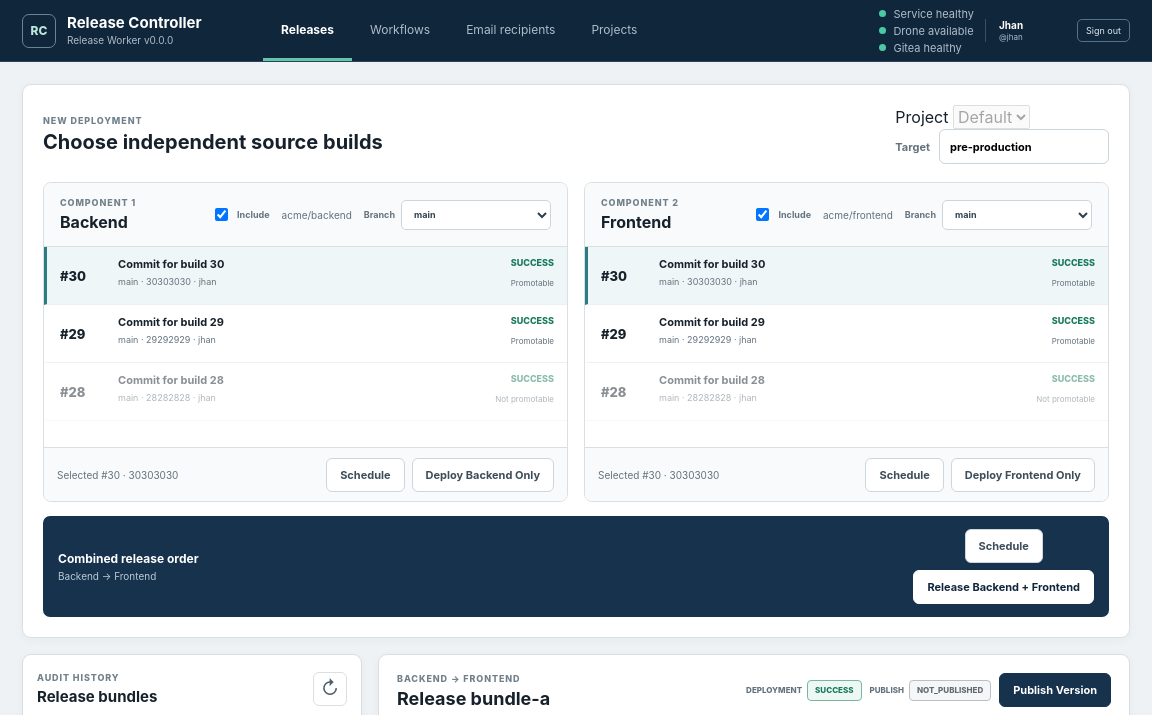
Test case: 專案設定 › 搜尋失敗仍保留手動輸入並可重試
This screenshot has width=1152, height=715.
Expected: the button with class "build-row" below "acme/frontend" is shown, [585,247,1108,305]
Click the link "Projects" at (614, 29), box [591,22,638,36]
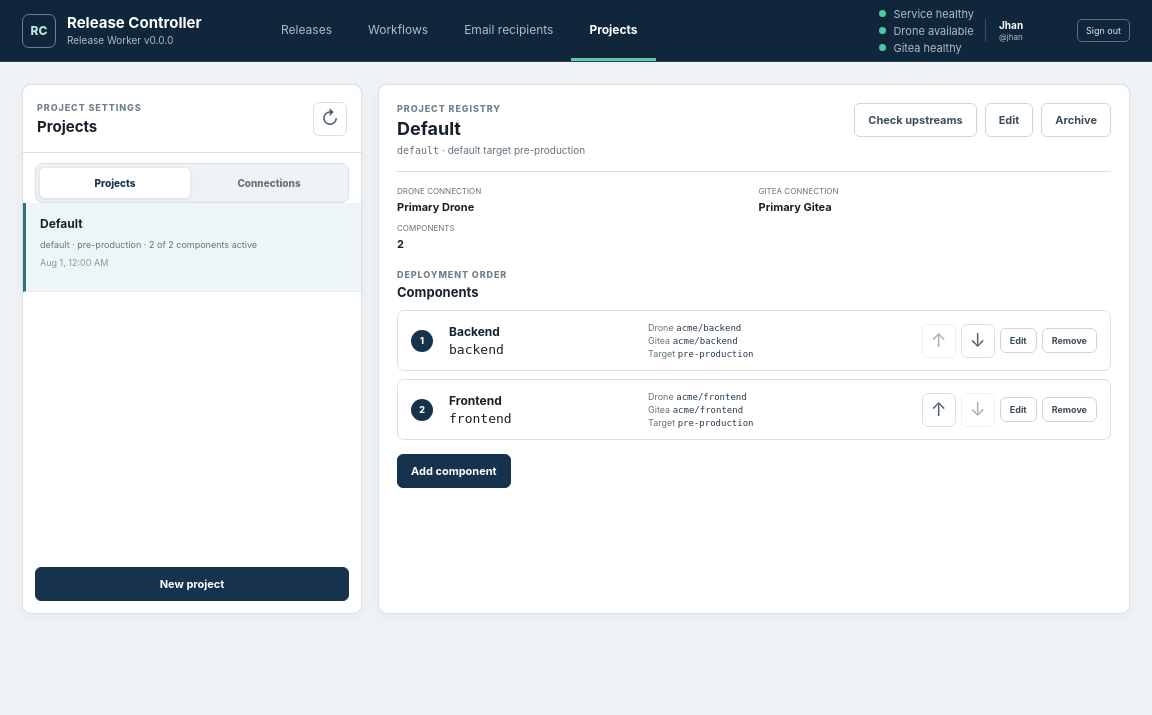
Expected: the list with class "component-table" is shown, [397,310,1111,440]
Click the button with id "new-project" at (192, 584), box [35,567,349,601]
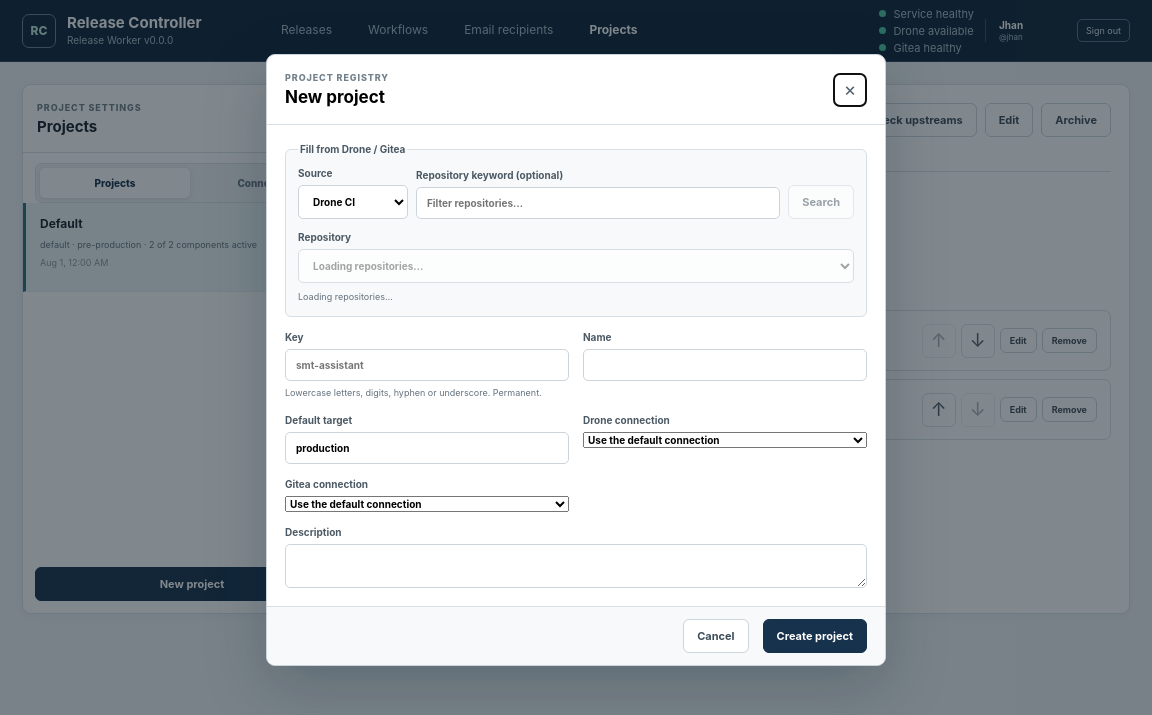
Type "Manual project" into the field labelled "Name" at (725, 365), box [583,349,867,381]
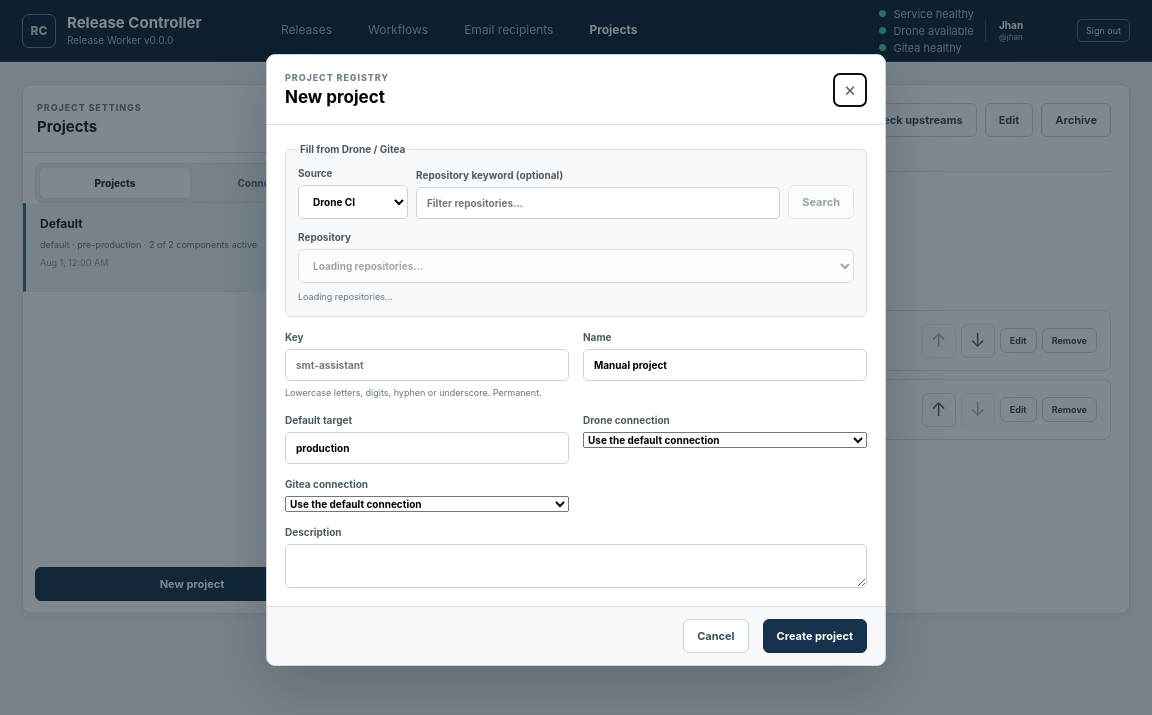
Click the button "Search" at (821, 202), box [788,185,854,219]
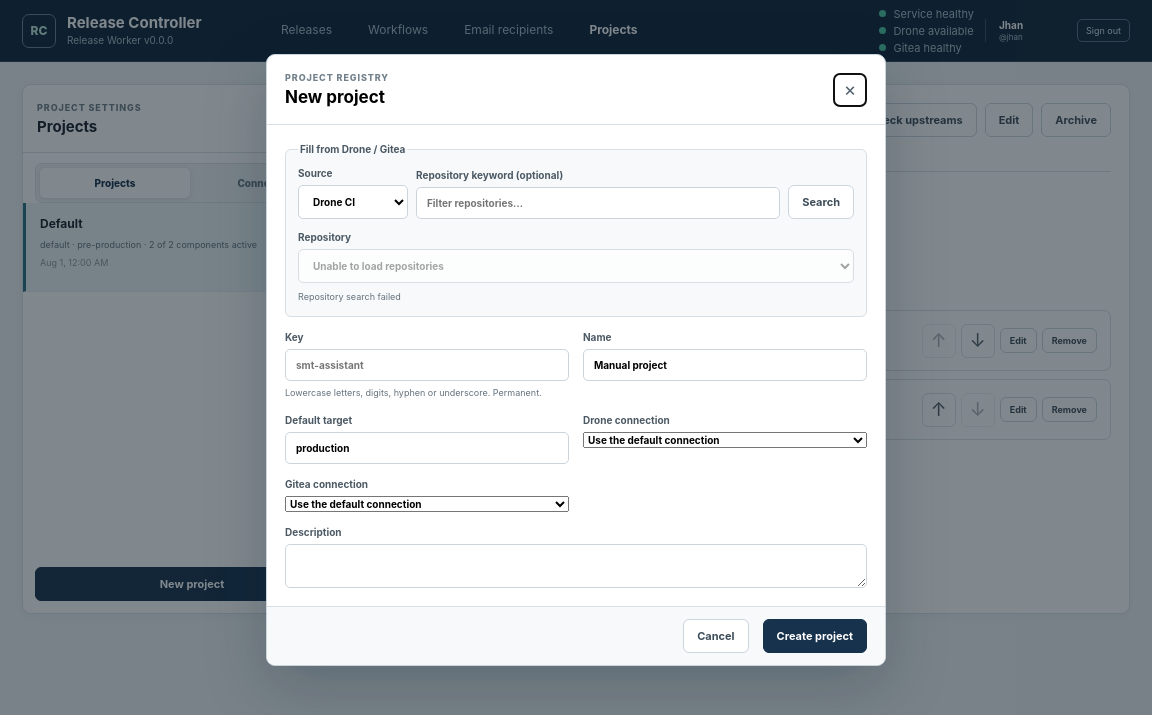
Expected: the dropdown labelled "Repository" is disabled, [298,249,854,283]
Expected: the message "Repository search failed" is shown, [298,291,401,302]
Click the button "Search" at (821, 202), box [788,185,854,219]
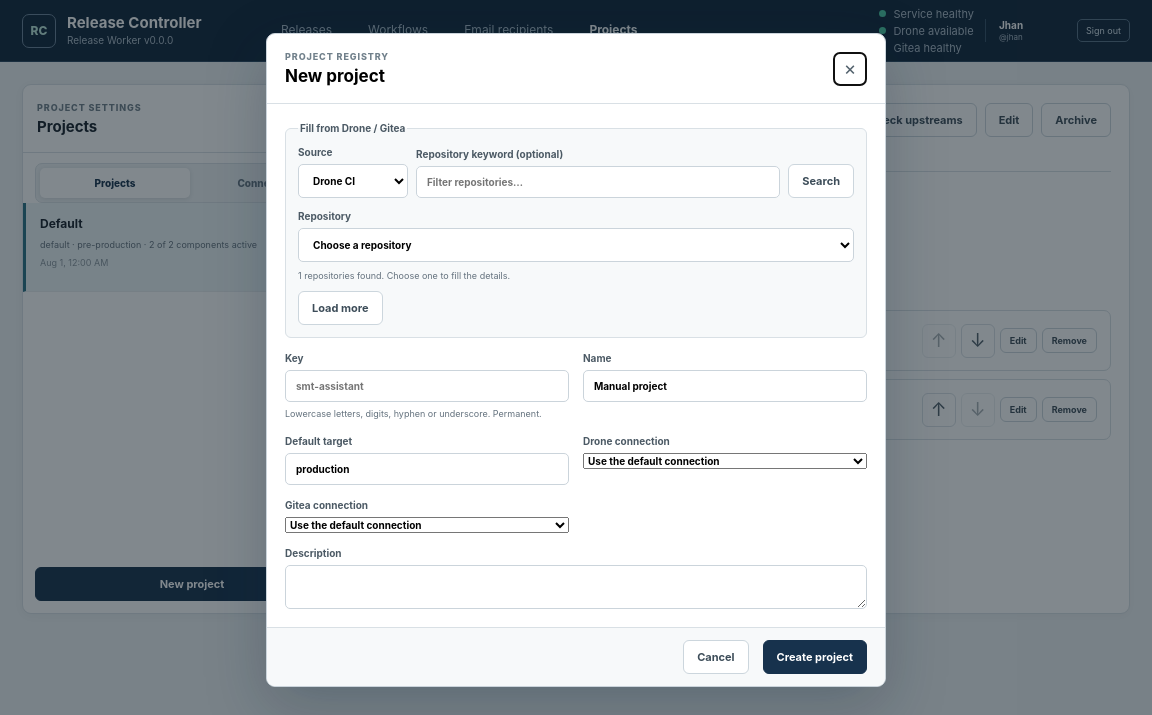
Expected: the dropdown labelled "Repository" is enabled, [298,228,854,262]
